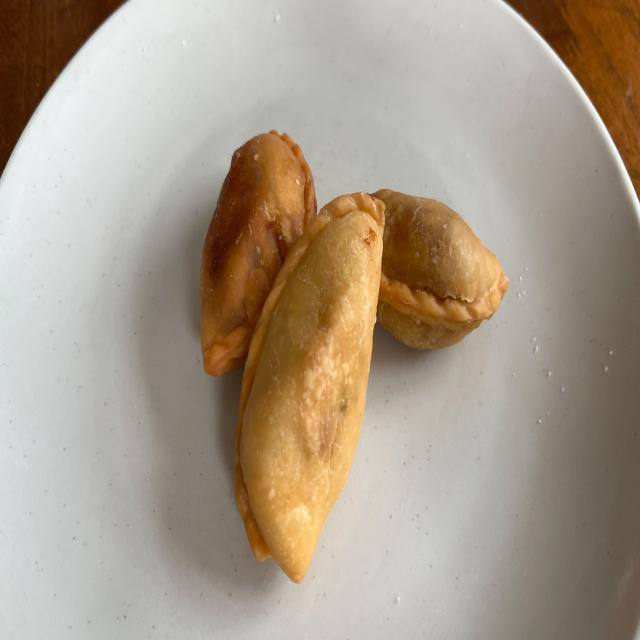karipap: (235, 193, 385, 582), (200, 131, 318, 376), (374, 189, 509, 349)
